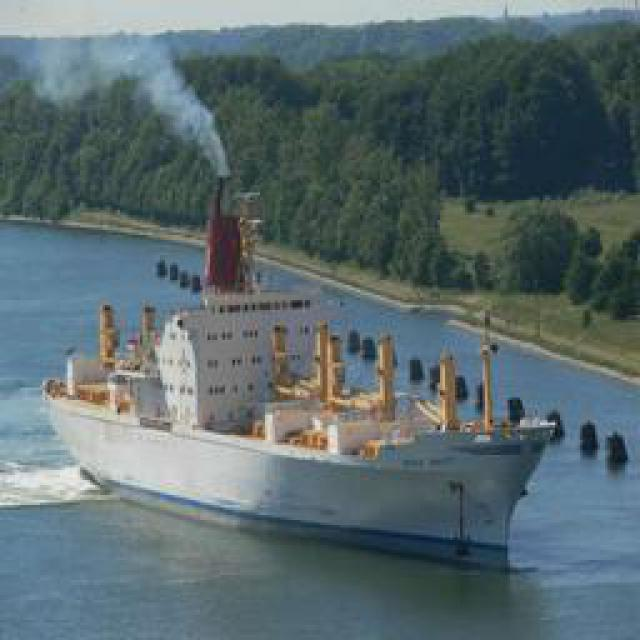Ship: (40, 220, 565, 565)
